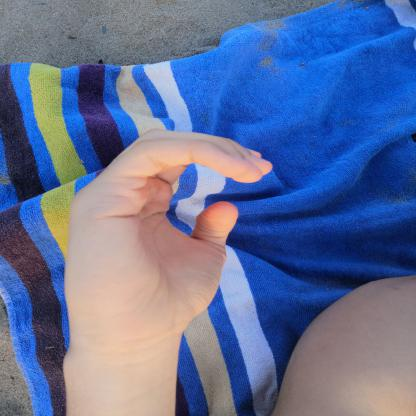JEEM: (47, 115, 286, 354)
